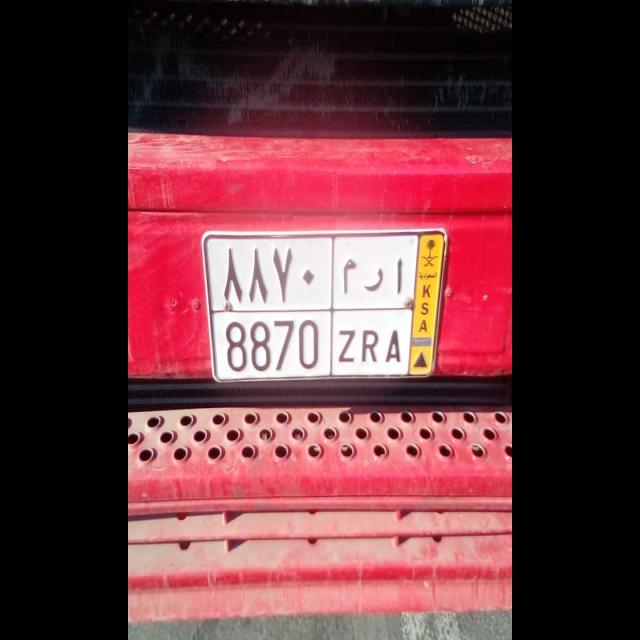license_plate: (210, 310, 410, 382)
